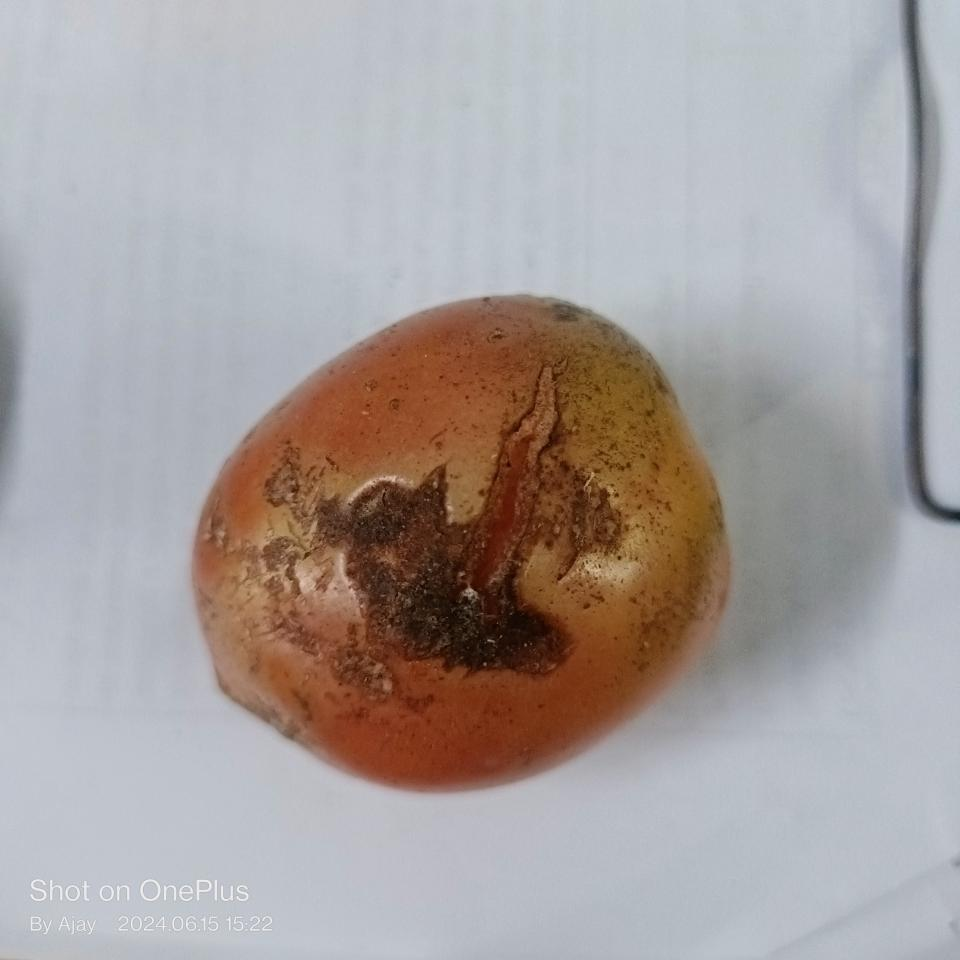Cracking: (246, 362, 627, 686)
